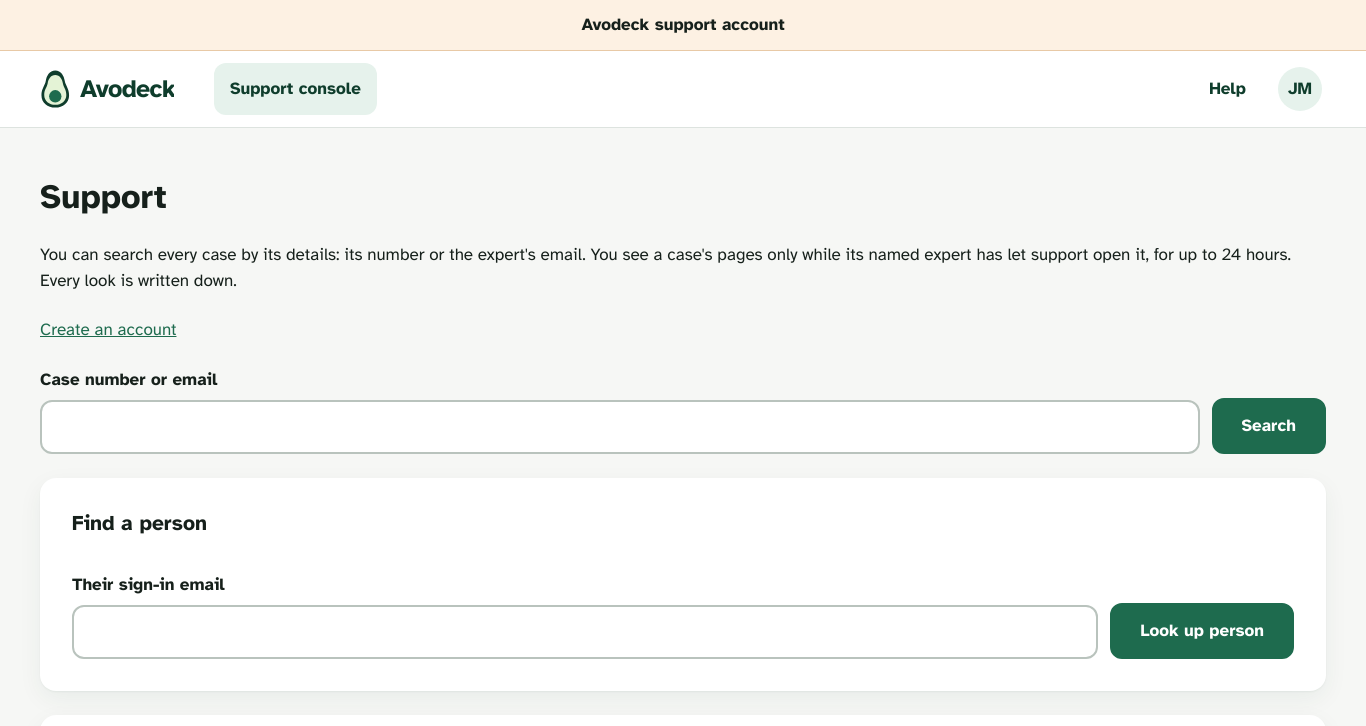
it: the results list links each case to its details page
In the field labelled "Case number or email": (620, 427) [40,400,1200,454], type "44444444-4444-4444-8444-444444444444"
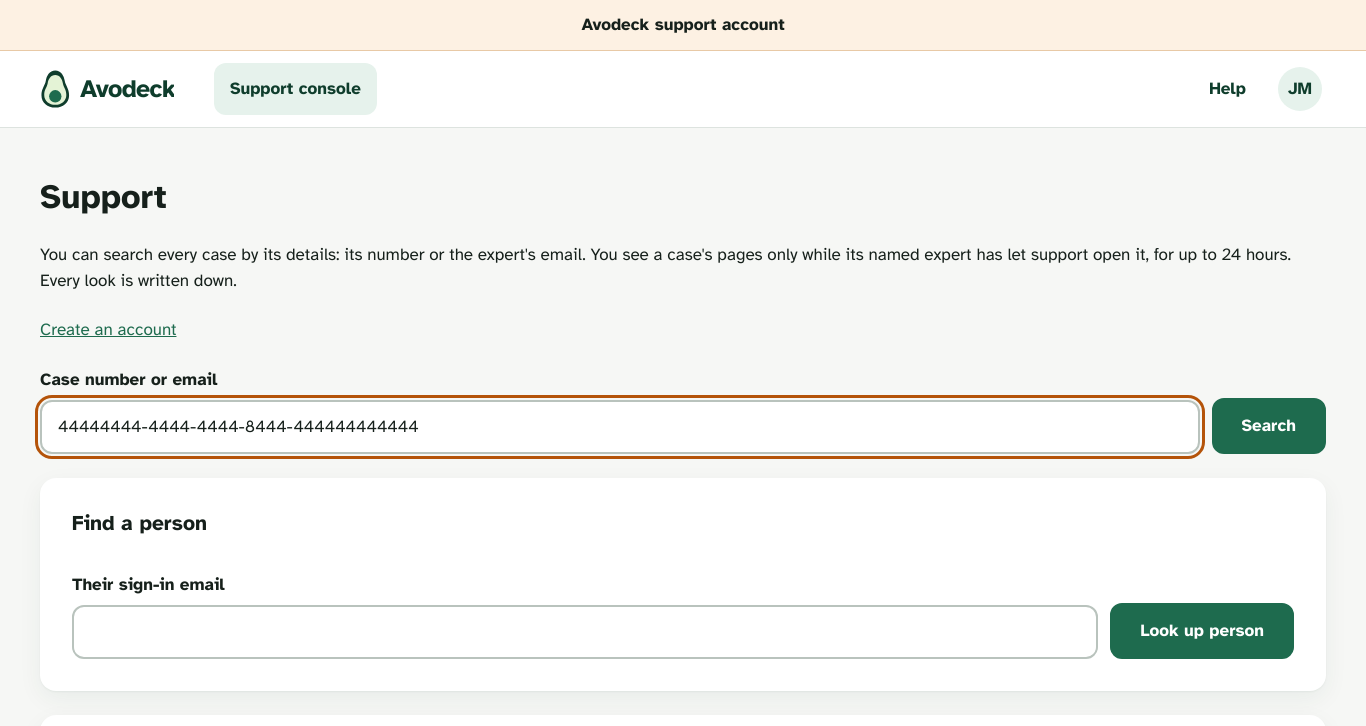
Click the button "Search": (1269, 426) [1212,398,1326,454]
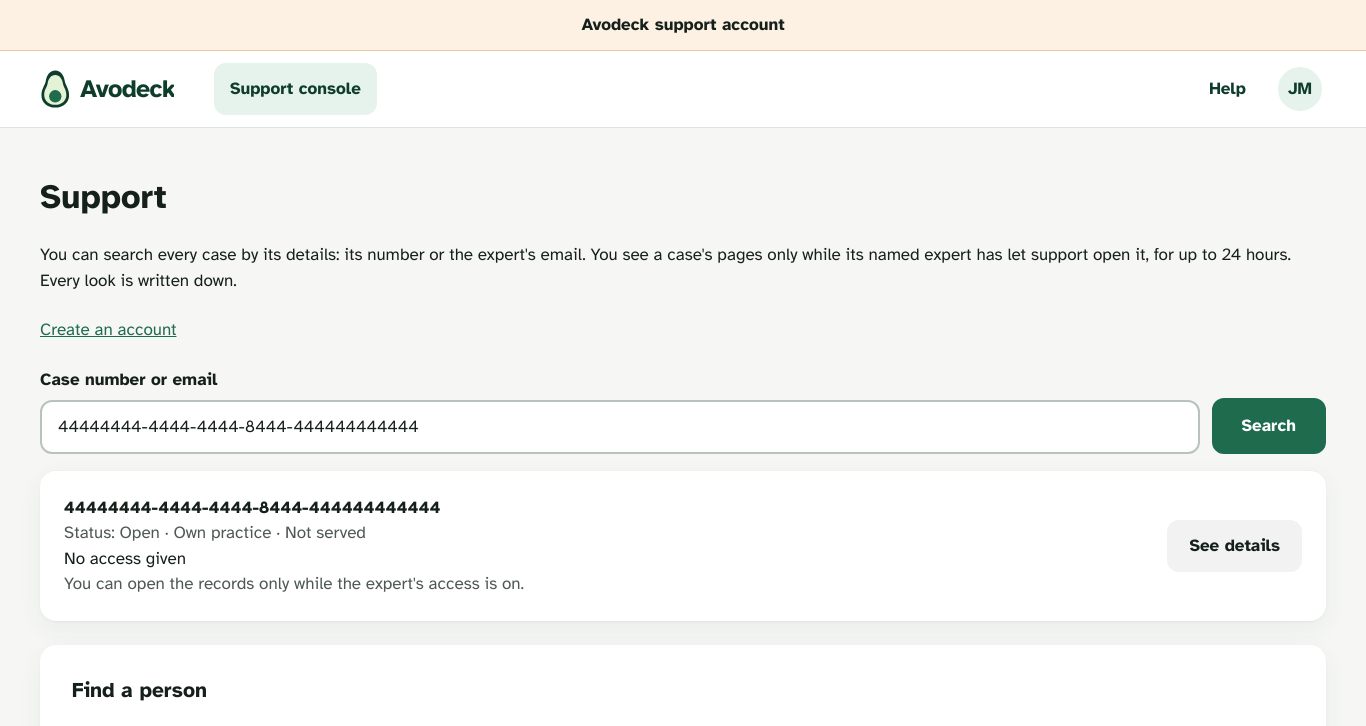
Click the link "See details": (1235, 546) [1167,520,1302,572]
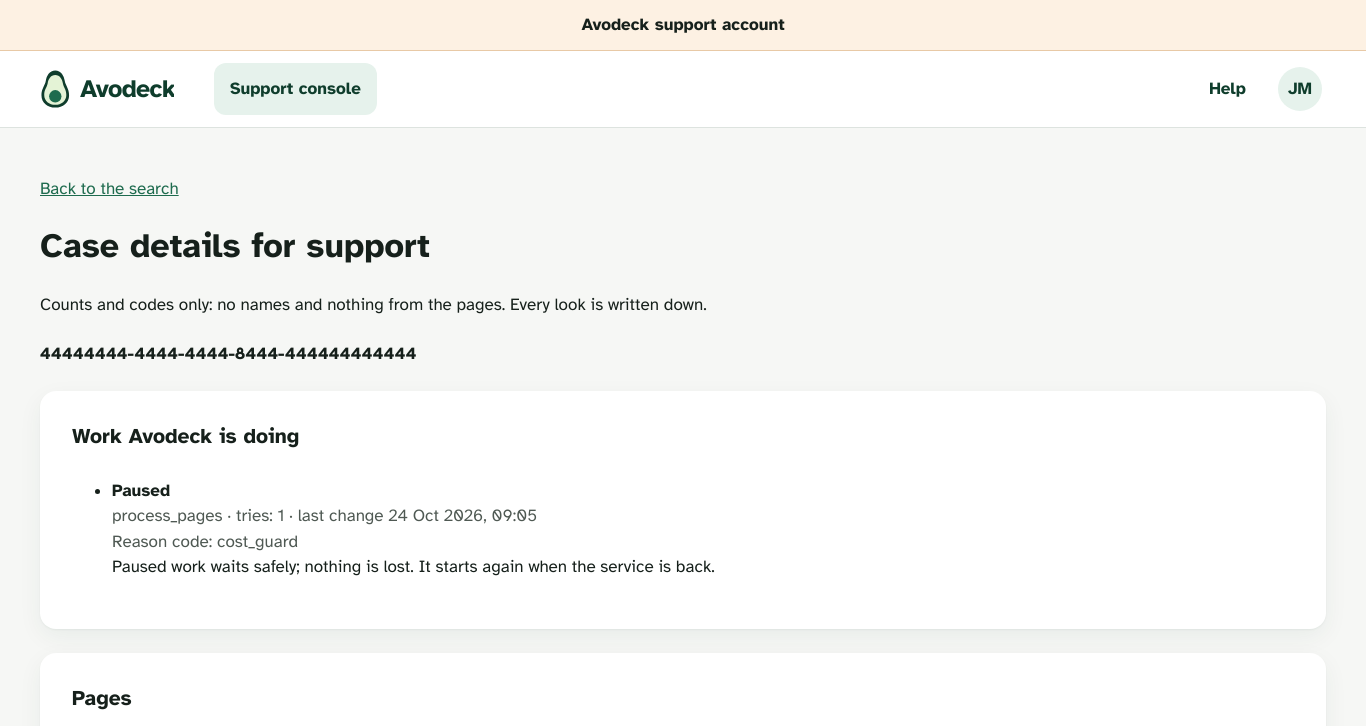
Check: the heading "Case details for support" is shown, box [40,225,430,267]
